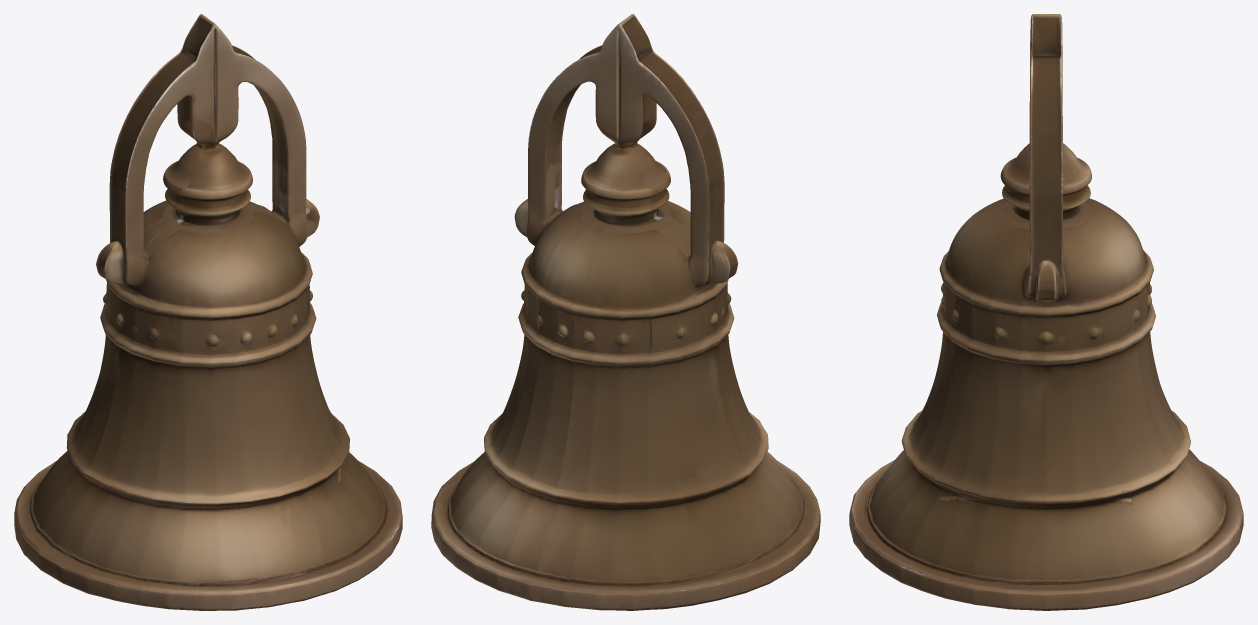
The model's file is base_basic_pbr.fbx.
3 renders of one model, left to right at view 1: azimuth 30°, elevation 25°; view 2: azimuth 150°, elevation 25°; view 3: azimuth 270°, elevation 25°, orthographic.
Parts seen in each view (by area): view 1: model; view 2: model; view 3: model.
Part boxes in pixels (x1,y1,x2,y2): model: (14,14,402,610); model: (431,14,820,610); model: (849,14,1243,610).
Bounding box in the file's own units: 124 × 190 × 125.
Materials: 1 (1 with a texture image).
